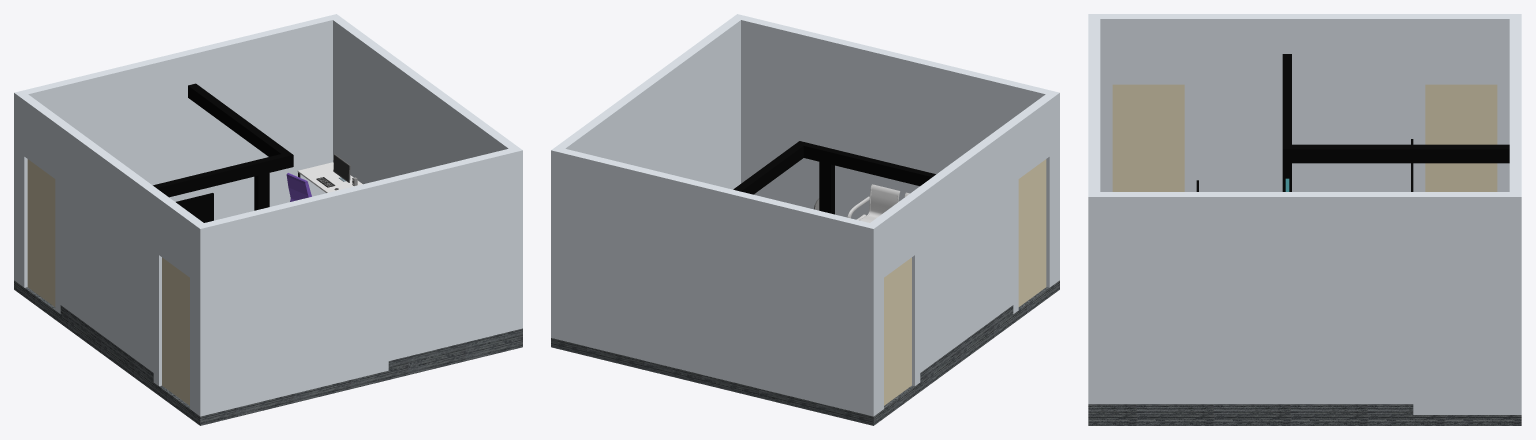
3 renders of one model, left to right at view 1: azimuth 30°, elevation 25°; view 2: azimuth 150°, elevation 25°; view 3: azimuth 270°, elevation 25°, orthographic. The views are drawn at different scales.
Parts seen in each view (by area): view 1: object_1, object_31, object_7, object_29, object_30, 1_171, object_22, object_6, 1_175, 1_176; view 2: object_1, object_31, object_30, object_29, object_7, object_6, waiting chair.003; view 3: object_1, object_31, object_30, object_29, object_7.
Boxes of the visible parts, left/top/right/bottom form: object_1: left=14, top=14, right=522, bottom=416; object_31: left=14, top=280, right=522, bottom=425; object_7: left=153, top=83, right=293, bottom=197; object_29: left=27, top=159, right=55, bottom=306; object_30: left=162, top=257, right=189, bottom=405; 1_171: left=297, top=162, right=362, bottom=192; object_22: left=176, top=193, right=213, bottom=222; object_6: left=254, top=173, right=269, bottom=210; 1_175: left=316, top=154, right=357, bottom=190; 1_176: left=286, top=173, right=311, bottom=201; object_1: left=551, top=14, right=1059, bottom=416; object_31: left=551, top=280, right=1059, bottom=425; object_30: left=1018, top=159, right=1046, bottom=306; object_29: left=884, top=257, right=911, bottom=405; object_7: left=733, top=141, right=935, bottom=194; object_6: left=819, top=162, right=834, bottom=214; waiting chair.003: left=860, top=184, right=909, bottom=222; object_1: left=1088, top=14, right=1521, bottom=414; object_31: left=1088, top=404, right=1521, bottom=425; object_30: left=1112, top=84, right=1184, bottom=191; object_29: left=1425, top=84, right=1497, bottom=191; object_7: left=1282, top=54, right=1509, bottom=163.
Size of what is drawn, in the model's own units: 18 by 10.5 by 18.
17 materials, 5 textured.
